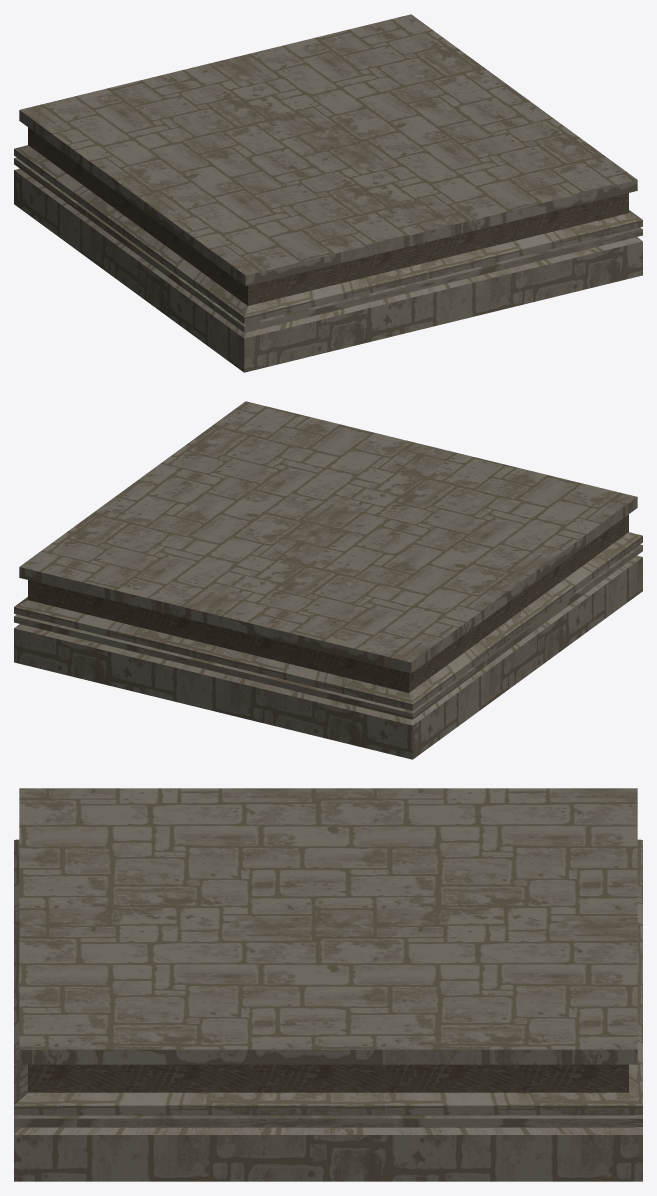
File: Platform1.fbx
3 renders of one model, top to bottom at view 1: azimuth 30°, elevation 25°; view 2: azimuth 150°, elevation 25°; view 3: azimuth 270°, elevation 25°, orthographic. The views are drawn at different scales.
Visible parts, largest first — view 1: Cube; view 2: Cube; view 3: Cube.
Part boxes in pixels (x1,y1,x2,y2): Cube: (14, 14, 642, 372); Cube: (14, 401, 642, 759); Cube: (14, 788, 642, 1181).
Bounding box in the file's own units: 378 × 85.88 × 378.
